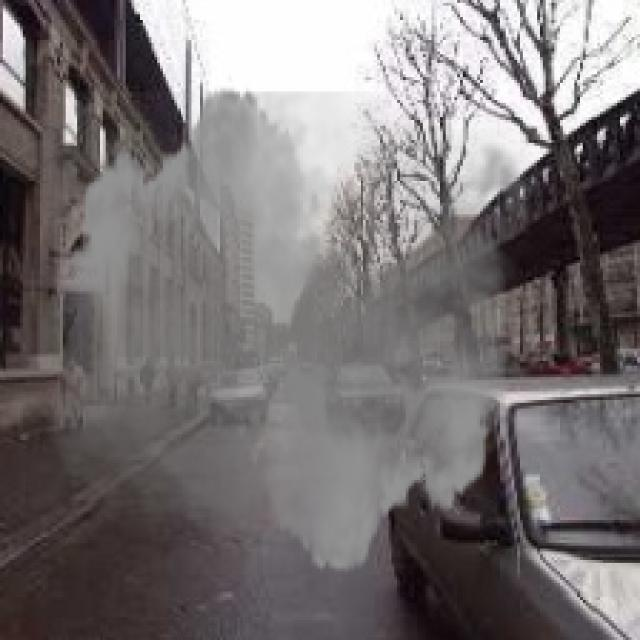smoke: (34, 71, 549, 588)
